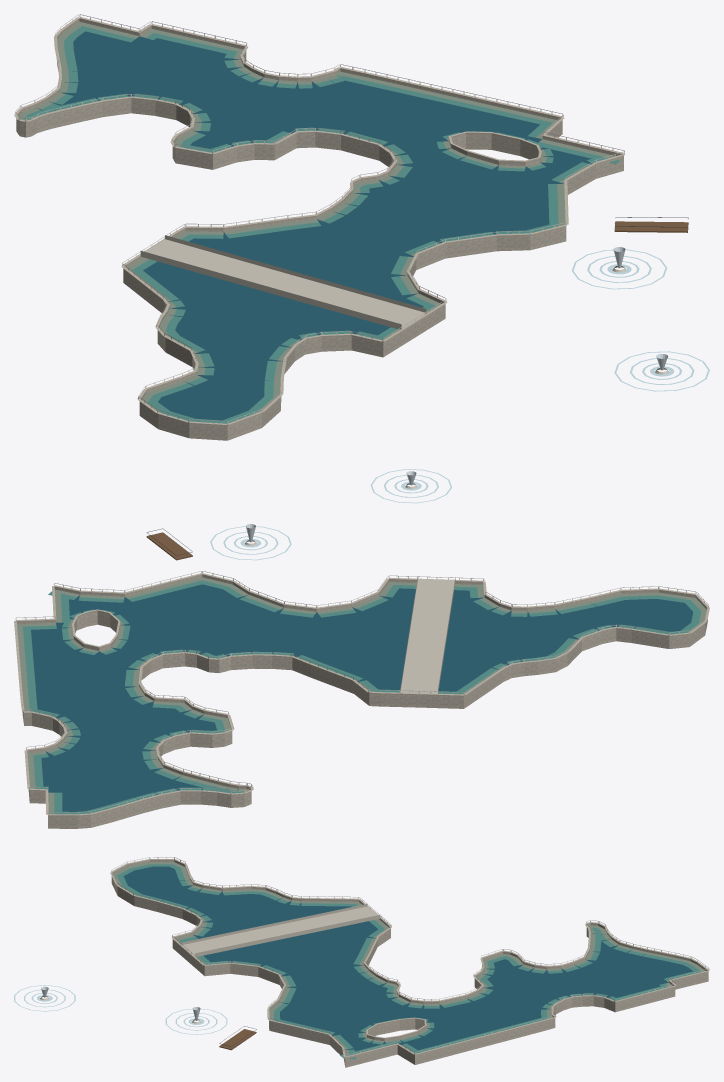
3 renders of one model, top to bottom at view 1: azimuth 30°, elevation 25°; view 2: azimuth 150°, elevation 25°; view 3: azimuth 270°, elevation 25°, orthographic. The views are drawn at different scales.
Visible parts, largest first — view 1: lake-water, lake-edge, lake-bridges; view 2: lake-water, lake-edge, lake-bridges; view 3: lake-water, lake-edge, lake-bridges.
Part boxes in pixels (left/top/right/bottom): lake-water: left=24, top=26, right=709, bottom=423; lake-edge: left=14, top=14, right=624, bottom=440; lake-bridges: left=140, top=217, right=688, bottom=374; lake-water: left=23, top=469, right=701, bottom=814; lake-edge: left=14, top=571, right=709, bottom=828; lake-bridges: left=146, top=471, right=455, bottom=693; lake-water: left=14, top=864, right=700, bottom=1059; lake-edge: left=110, top=857, right=709, bottom=1067; lake-bridges: left=40, top=904, right=380, bottom=1050.
Bounding box in the file's own units: 136 × 6.9 × 202.
Materials: 11 (2 with a texture image).
